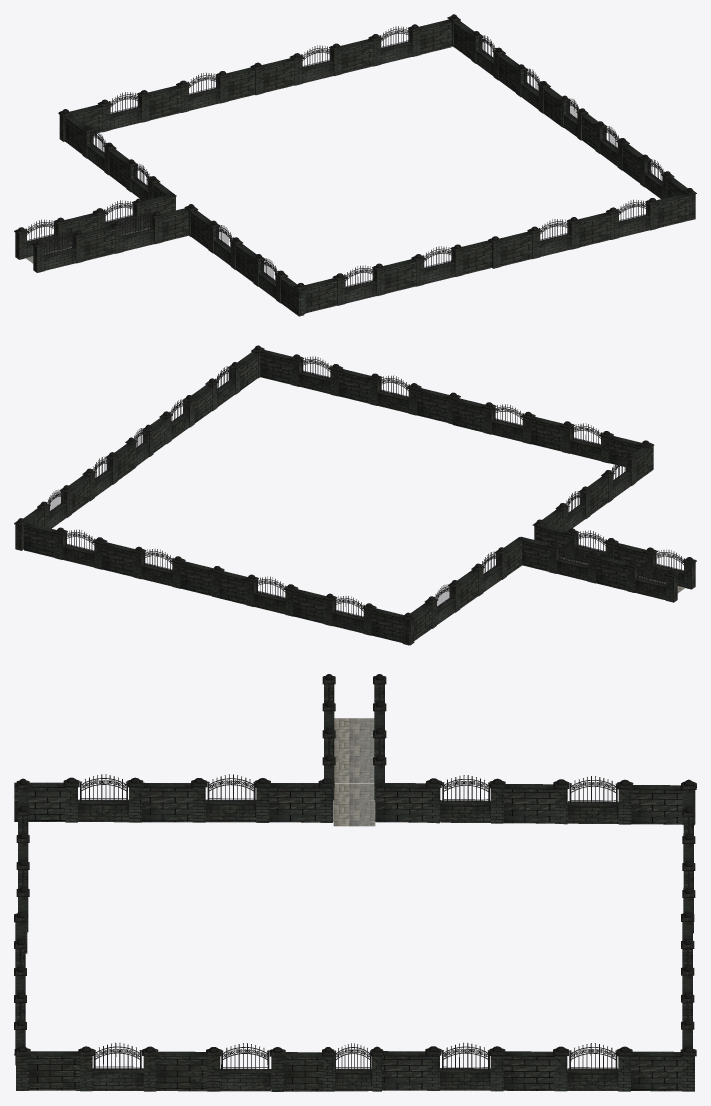
File: cementerio.obj
3 renders of one model, top to bottom at view 1: azimuth 30°, elevation 25°; view 2: azimuth 150°, elevation 25°; view 3: azimuth 270°, elevation 25°, orthographic. The views are drawn at different scales.
Visible parts, largest first — view 1: MuroAlto_004_TijolinhoPilarGrande_003, MuroAlto_003_TijolinhoPilarGrande_007, MuroAlto_005_TijolinhoPilarGrande_007, MuroAlto_001_TijolinhoPilarGrande_001, MuroAlto_003_TijolinhoPilarGrande_005, MuroAlto_004_TijolinhoPilarGrande_008, MuroAlto_004_TijolinhoPilarGrande_007, MuroAlto_004_TijolinhoPilarGrande_005, MuroAlto_005_TijolinhoPilarGrande_008, MuroAlto_003_TijolinhoPilarGrande_008, MuroAlto_005_TijolinhoPilarGrande_005, MuroAlto_TijolinhoPilarGrande_001 (+5 smaller); view 2: MuroAlto_005_TijolinhoPilarGrande_008, MuroAlto_004_TijolinhoPilarGrande_003, MuroAlto_005_TijolinhoPilarGrande_005, MuroAlto_003_TijolinhoPilarGrande_007, MuroAlto_004_TijolinhoPilarGrande_007, MuroAlto_004_TijolinhoPilarGrande_008, MuroAlto_003_TijolinhoPilarGrande_003, MuroAlto_004_TijolinhoPilarGrande_002, MuroAlto_004_TijolinhoPilarGrande_005, MuroAlto_005_TijolinhoPilarGrande_007, MuroAlto_003_TijolinhoPilarGrande_008, MuroAlto_005_TijolinhoPilarGrande_003 (+3 smaller); view 3: MuroAlto_003_TijolinhoPilarGrande_004, MuroAlto_003_TijolinhoPilarGrande_001, MuroAlto_005_TijolinhoPilarGrande_001, MuroAlto_004_TijolinhoPilarGrande_004, MuroAlto_004_TijolinhoPilarGrande_009, MuroAlto_004_TijolinhoPilarGrande_006, MuroAlto_004_TijolinhoPilarGrande_001, MuroAlto_003_TijolinhoPilarGrande_009, MuroAlto_003_TijolinhoPilarGrande_006, MuroAlto_005_TijolinhoPilarGrande_006, MuroAlto_005_TijolinhoPilarGrande_009, MuroAlto_005_TijolinhoPilarGrande_004 (+22 smaller).
Part boxes in pixels (bbox=[...]): MuroAlto_004_TijolinhoPilarGrande_003: bbox=[149, 89, 180, 120]; MuroAlto_003_TijolinhoPilarGrande_007: bbox=[263, 61, 294, 92]; MuroAlto_005_TijolinhoPilarGrande_007: bbox=[420, 23, 451, 54]; MuroAlto_001_TijolinhoPilarGrande_001: bbox=[84, 229, 115, 260]; MuroAlto_003_TijolinhoPilarGrande_005: bbox=[306, 281, 337, 312]; MuroAlto_004_TijolinhoPilarGrande_008: bbox=[579, 216, 610, 247]; MuroAlto_004_TijolinhoPilarGrande_007: bbox=[342, 42, 372, 73]; MuroAlto_004_TijolinhoPilarGrande_005: bbox=[385, 262, 415, 293]; MuroAlto_005_TijolinhoPilarGrande_008: bbox=[658, 196, 688, 228]; MuroAlto_003_TijolinhoPilarGrande_008: bbox=[501, 235, 531, 266]; MuroAlto_005_TijolinhoPilarGrande_005: bbox=[463, 244, 491, 274]; MuroAlto_TijolinhoPilarGrande_001: bbox=[162, 211, 188, 241]; MuroAlto_005_TijolinhoPilarGrande_008: bbox=[260, 353, 291, 384]; MuroAlto_004_TijolinhoPilarGrande_003: bbox=[293, 592, 324, 623]; MuroAlto_005_TijolinhoPilarGrande_005: bbox=[452, 401, 483, 432]; MuroAlto_003_TijolinhoPilarGrande_007: bbox=[180, 564, 211, 595]; MuroAlto_004_TijolinhoPilarGrande_007: bbox=[102, 545, 133, 576]; MuroAlto_004_TijolinhoPilarGrande_008: bbox=[338, 372, 369, 403]; MuroAlto_003_TijolinhoPilarGrande_003: bbox=[371, 611, 402, 642]; MuroAlto_004_TijolinhoPilarGrande_002: bbox=[596, 559, 626, 590]; MuroAlto_004_TijolinhoPilarGrande_005: bbox=[531, 420, 561, 451]; MuroAlto_005_TijolinhoPilarGrande_007: bbox=[24, 526, 54, 557]; MuroAlto_003_TijolinhoPilarGrande_008: bbox=[417, 391, 447, 422]; MuroAlto_005_TijolinhoPilarGrande_003: bbox=[219, 574, 245, 604]; MuroAlto_003_TijolinhoPilarGrande_004: bbox=[269, 788, 320, 822]; MuroAlto_003_TijolinhoPilarGrande_001: bbox=[631, 790, 682, 824]; MuroAlto_005_TijolinhoPilarGrande_001: bbox=[376, 788, 427, 822]; MuroAlto_004_TijolinhoPilarGrande_004: bbox=[141, 788, 192, 822]; MuroAlto_004_TijolinhoPilarGrande_009: bbox=[156, 1057, 207, 1091]; MuroAlto_004_TijolinhoPilarGrande_006: bbox=[503, 1056, 554, 1090]; MuroAlto_004_TijolinhoPilarGrande_001: bbox=[504, 789, 554, 823]; MuroAlto_003_TijolinhoPilarGrande_009: bbox=[29, 1056, 79, 1090]; MuroAlto_003_TijolinhoPilarGrande_006: bbox=[631, 1057, 681, 1091]; MuroAlto_005_TijolinhoPilarGrande_006: bbox=[382, 1056, 426, 1090]; MuroAlto_005_TijolinhoPilarGrande_009: bbox=[284, 1057, 334, 1091]; MuroAlto_005_TijolinhoPilarGrande_004: bbox=[14, 788, 65, 821].
Size of the model in its own units: 303 by 17.25 by 231.
6 materials, 6 textured.
